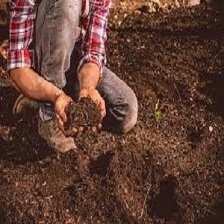loamy_soil: (8, 149, 214, 215), (60, 91, 111, 137)
